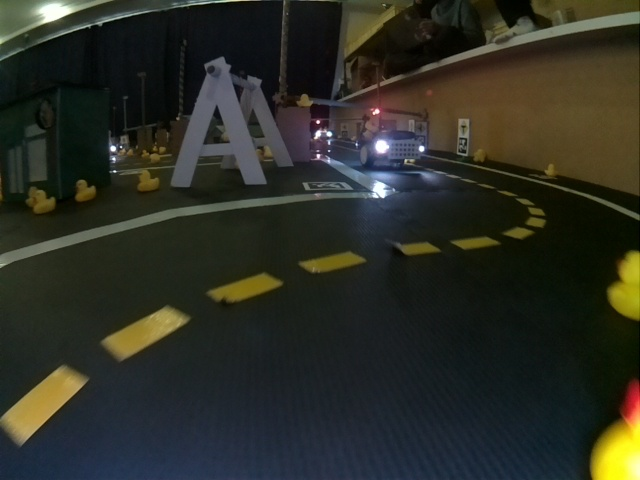Duckie: (607, 252, 638, 317), (34, 192, 54, 211), (138, 171, 157, 190), (74, 181, 92, 201), (298, 94, 312, 108), (545, 164, 558, 176), (474, 149, 486, 160)
Duckiebot: (358, 130, 424, 167)
Intersection sign: (460, 120, 469, 136)
QR code: (304, 182, 351, 190), (458, 139, 468, 154)
Traffic light: (371, 107, 379, 116)
